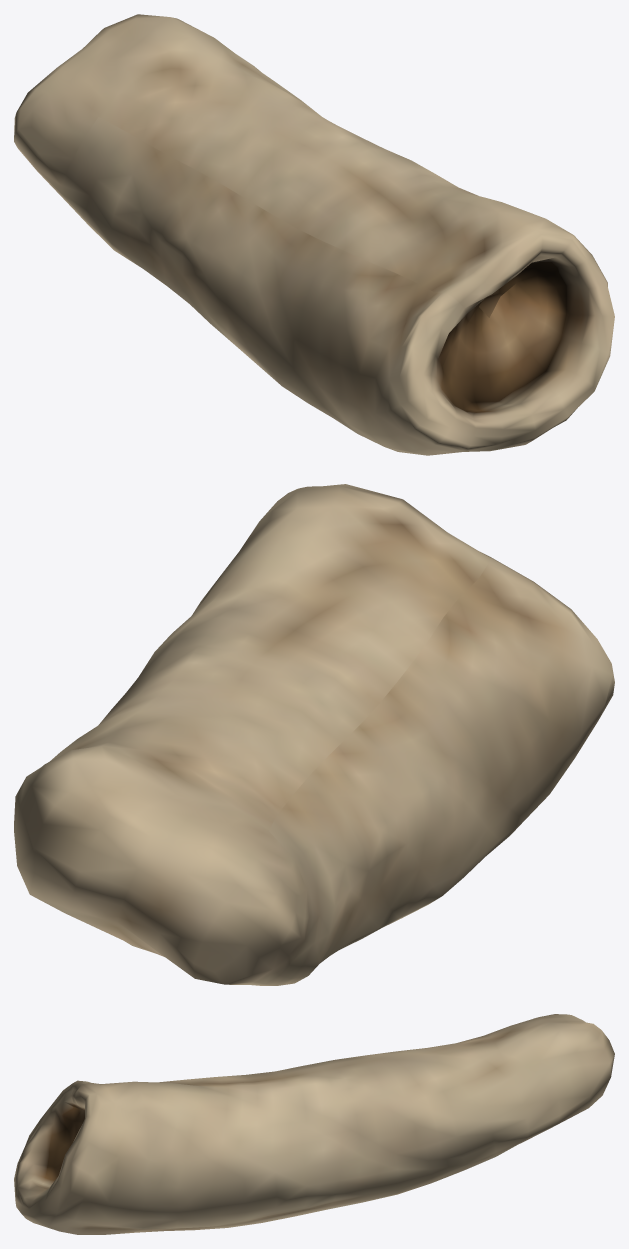
The model's file is Lower_Incisor5.glb.
3 renders of one model, top to bottom at view 1: azimuth 30°, elevation 25°; view 2: azimuth 150°, elevation 25°; view 3: azimuth 270°, elevation 25°, orthographic. The views are drawn at different scales.
Visible parts, largest first — view 1: Lower_Incisor5.glb; view 2: Lower_Incisor5.glb; view 3: Lower_Incisor5.glb.
Boxes of the visible parts, left/top/right/bottom form: Lower_Incisor5.glb: left=14, top=14, right=614, bottom=455; Lower_Incisor5.glb: left=14, top=484, right=614, bottom=985; Lower_Incisor5.glb: left=14, top=1014, right=614, bottom=1234.
Size of the model in its own units: 0.0162 by 0.0117 by 0.0329.
Materials: 1 (1 with a texture image).
